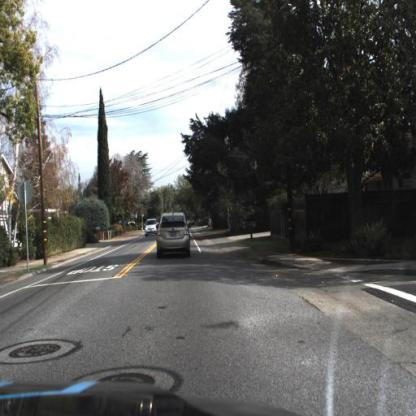car: (158, 209, 192, 259), (145, 219, 160, 240)
